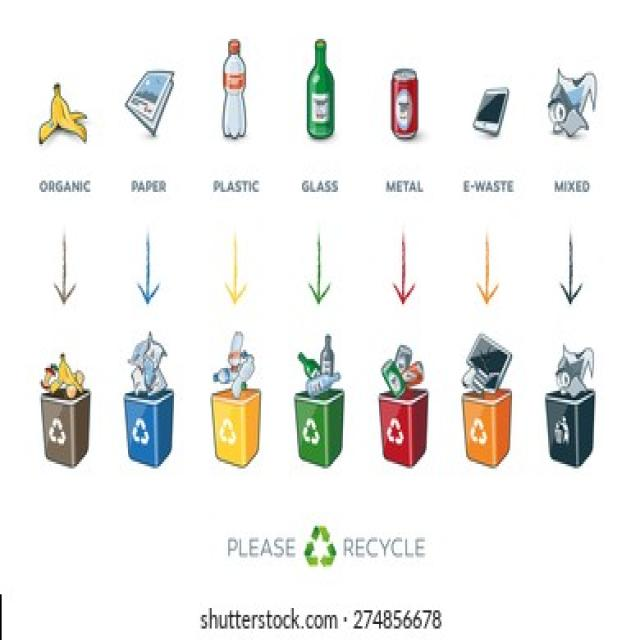paper: (130, 71, 176, 135)
